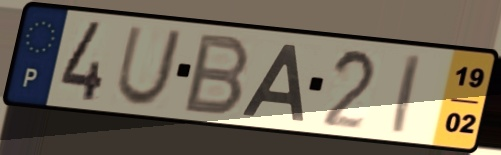2: (317, 47, 382, 131)
4: (57, 18, 106, 104)
A: (238, 41, 307, 124)
B: (179, 31, 254, 118)
I: (389, 50, 424, 137)
U: (112, 24, 187, 110)
